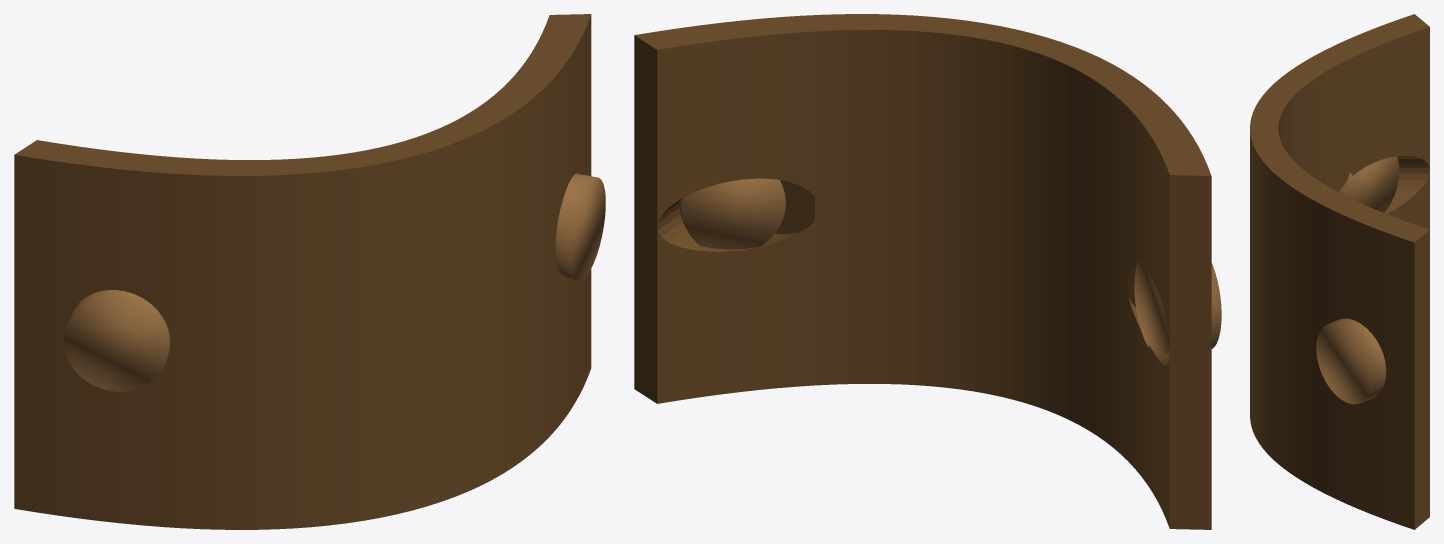
Rendered from Pouch.fbx.
The picture shows the model from 3 angles, left to right: view 1: azimuth 30°, elevation 25°; view 2: azimuth 150°, elevation 25°; view 3: azimuth 270°, elevation 25°; orthographic projection. The views are drawn at different scales.
Parts seen in each view (by area): view 1: Pouch; view 2: Pouch; view 3: Pouch.
Boxes of the visible parts, x1,y1,x2,y2 form: Pouch: (14,14,605,529); Pouch: (634,14,1221,529); Pouch: (1250,14,1429,529).
Bounding box in the file's own units: 1.26 × 0.74 × 0.4197.
